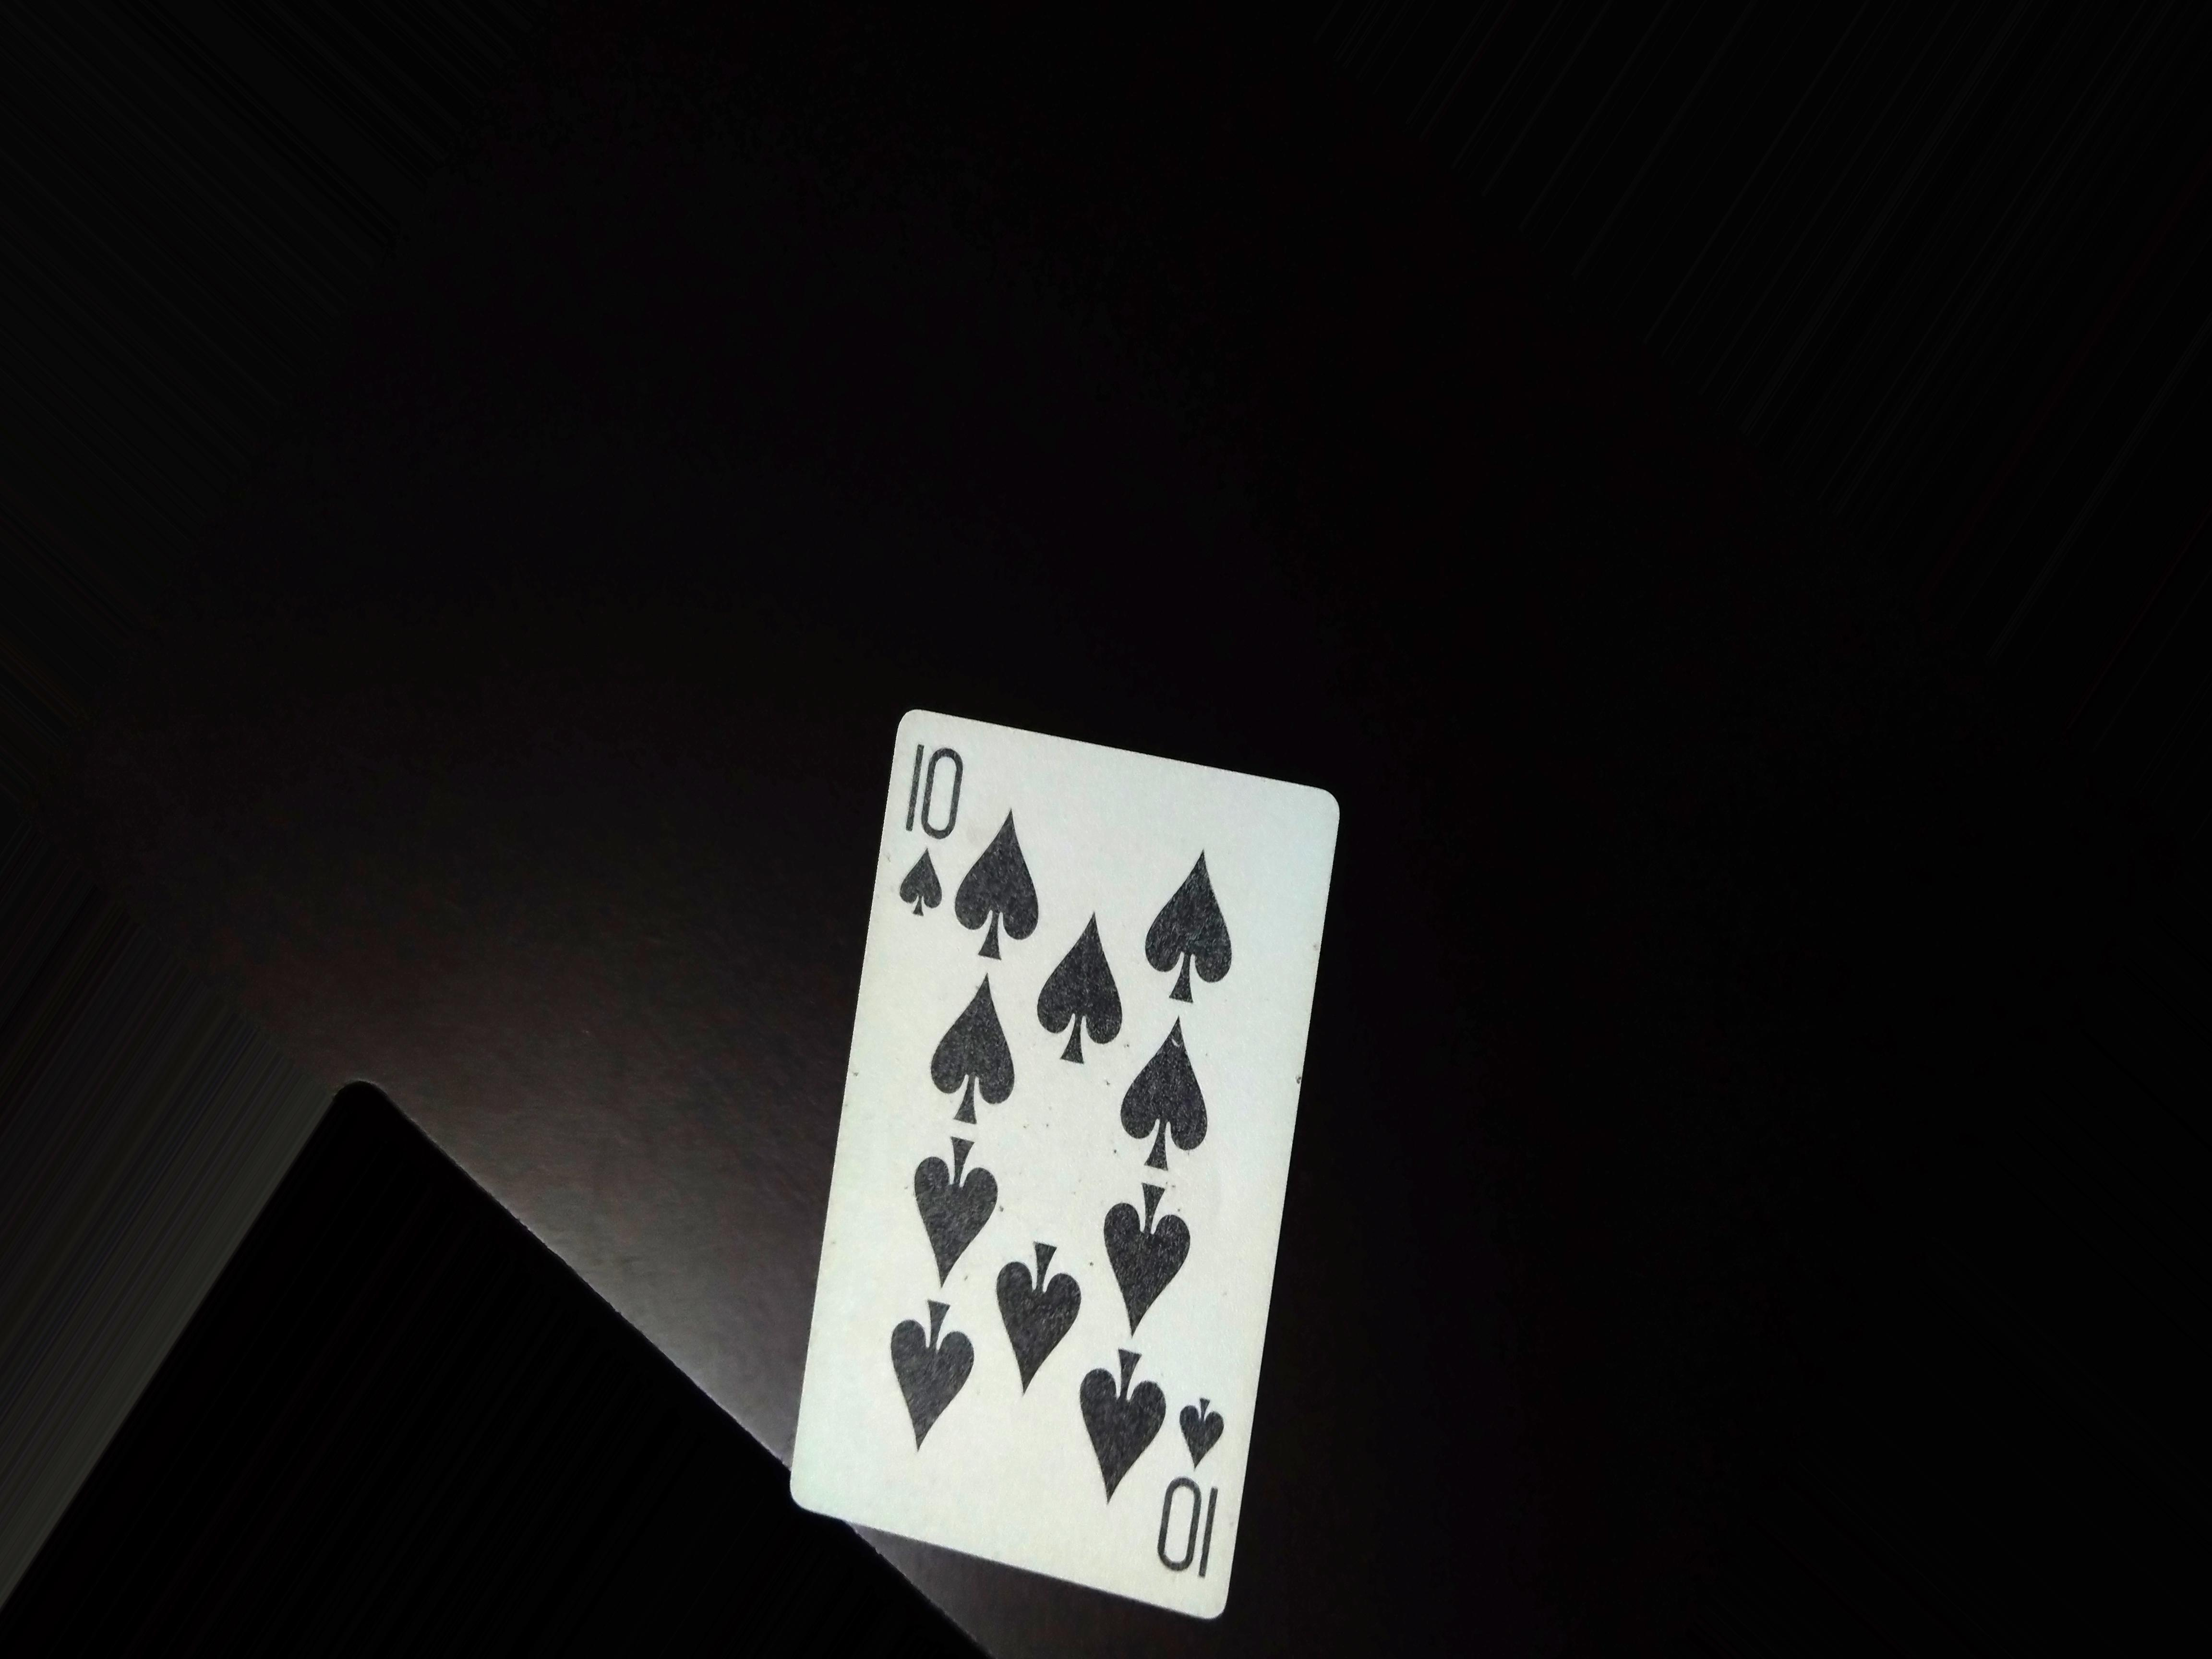10S: (897, 725, 972, 964)
